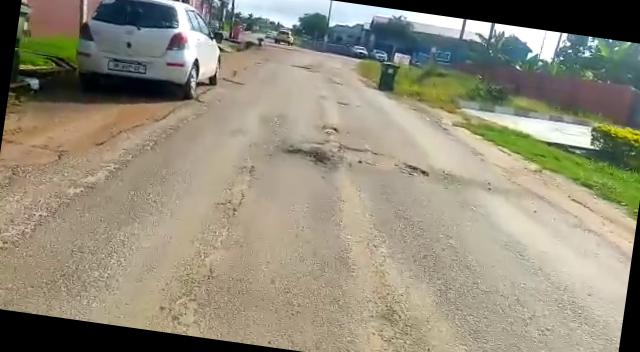pothole: (333, 142, 434, 182), (284, 142, 334, 168)
